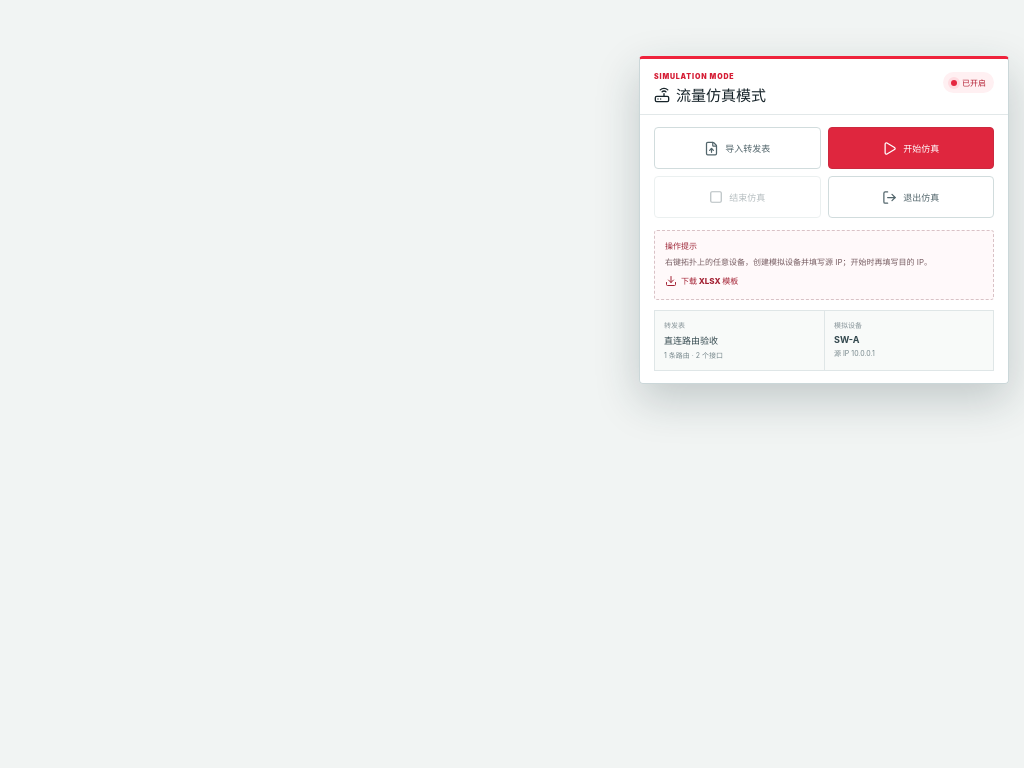
it: ForwardingSimulator › loads a snapshot, traces a path in reduced-motion mode and clears the simulation
Expected: the text "直连路由验收" is shown, [664,335,718,346]
Expected: the button "导入转发表" is shown, [654,127,820,169]
Click the button "开始仿真" at (911, 148), box [828,127,994,169]
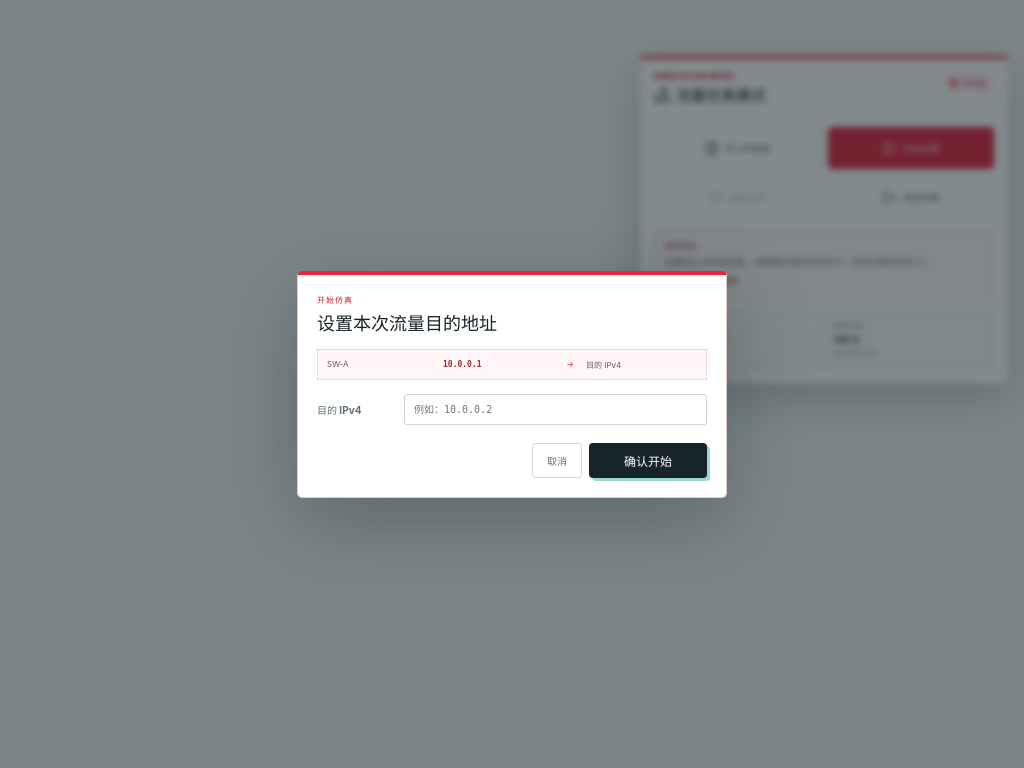
Type "10.0.0.2" into the field with placeholder "例如：10.0.0.2" at (556, 409), box [404,394,707,424]
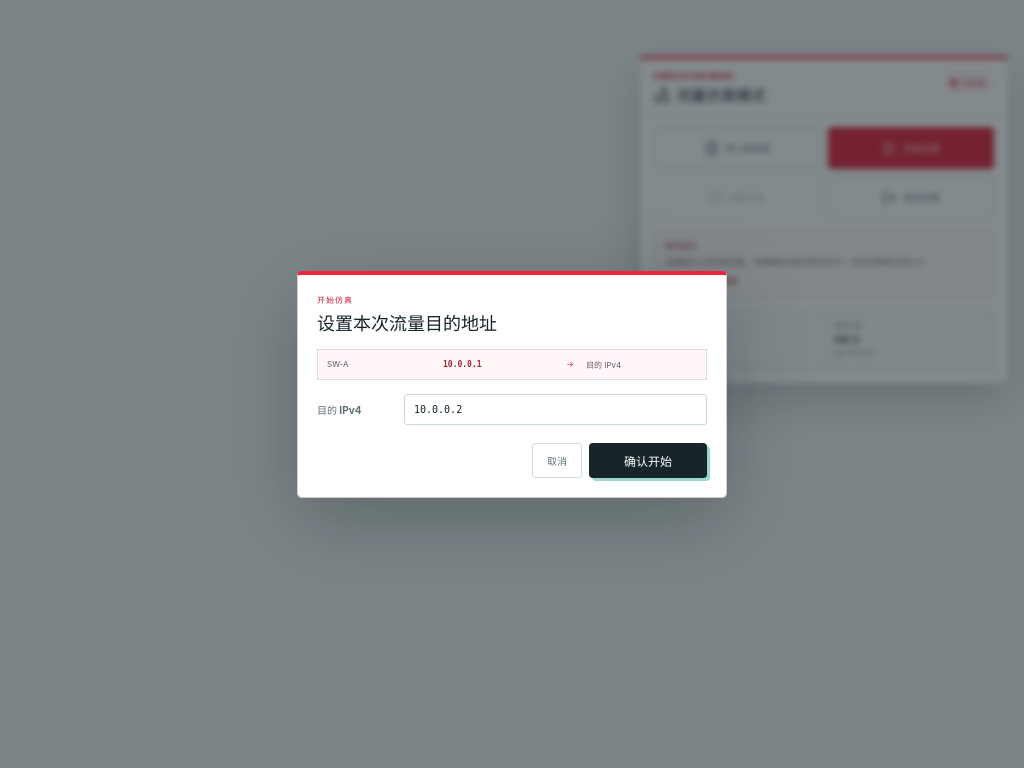
Click the button "确认开始" at (648, 460), box [589,442,707,478]
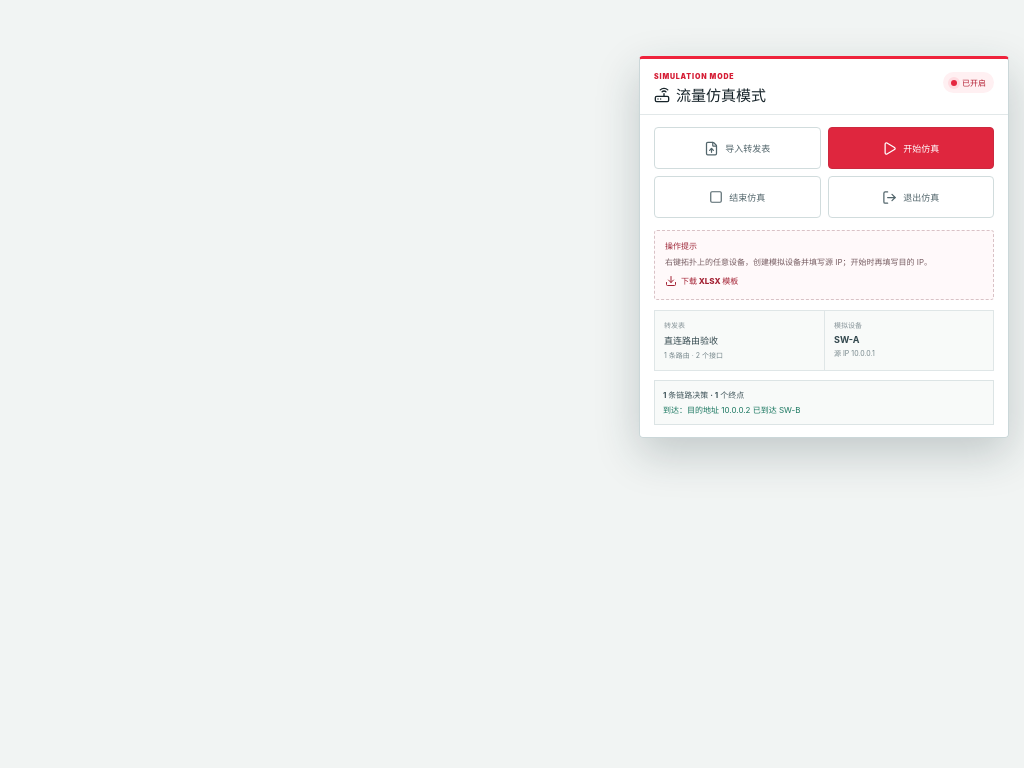
Result: the text "1 条链路决策 · 1 个终点" is shown at [663,390,744,400]
Result: the text "到达：目的地址 10.0.0.2 已到达 SW-B" is shown at [663,405,800,415]
Click the button "结束仿真" at (737, 197), box [654,176,820,218]
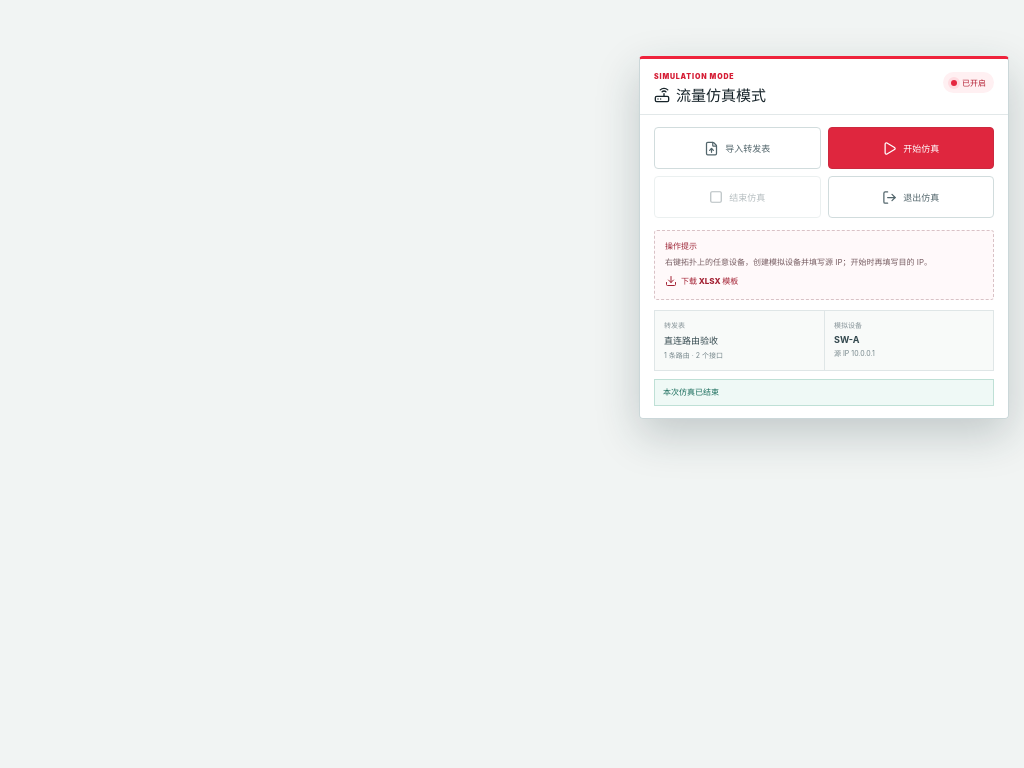
Result: the text "1 条链路决策 · 1 个终点" is gone
